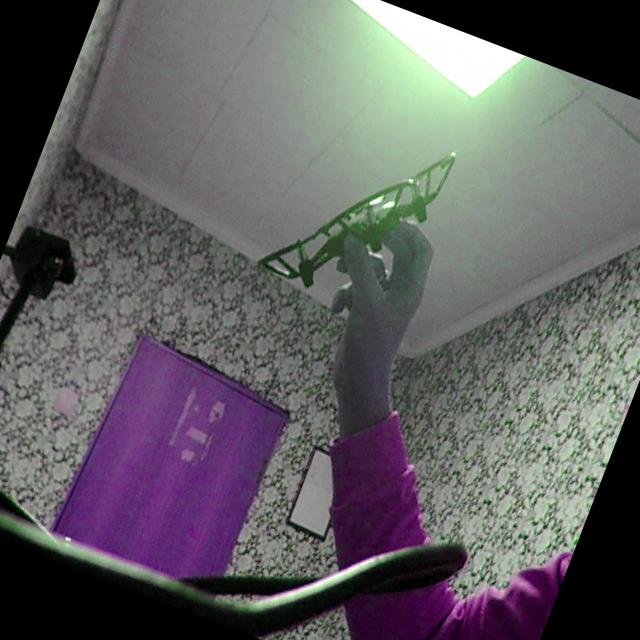drone: (247, 96, 472, 346)
